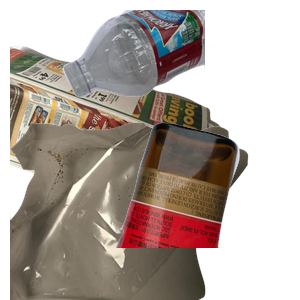glass: (113, 120, 300, 300)
paper: (10, 42, 224, 222)
plastic: (60, 10, 300, 100)
trash: (10, 120, 250, 300)
